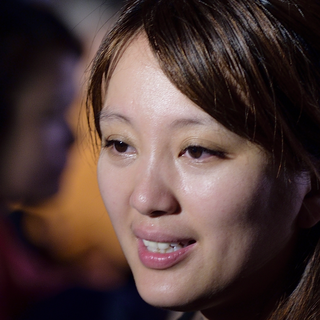eye: (171, 138, 231, 167), (100, 132, 142, 160)
